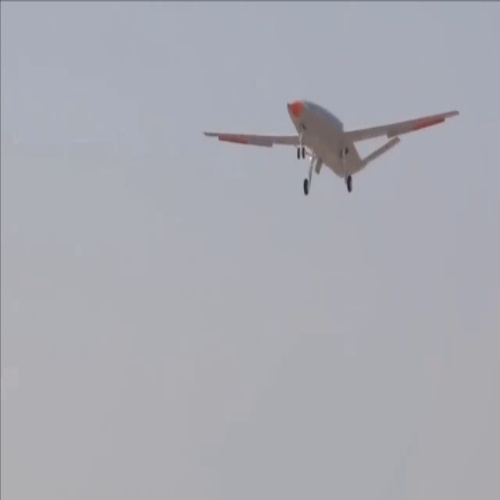uav1022: (195, 94, 459, 199)
